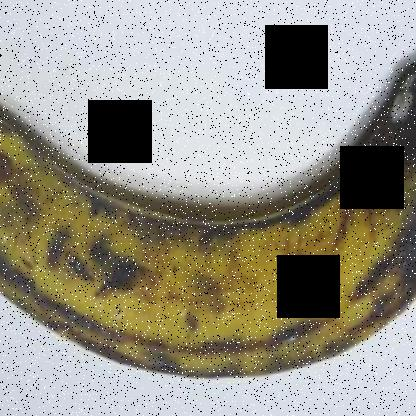overripe: (1, 50, 415, 400)
rotten: (328, 61, 415, 334)
